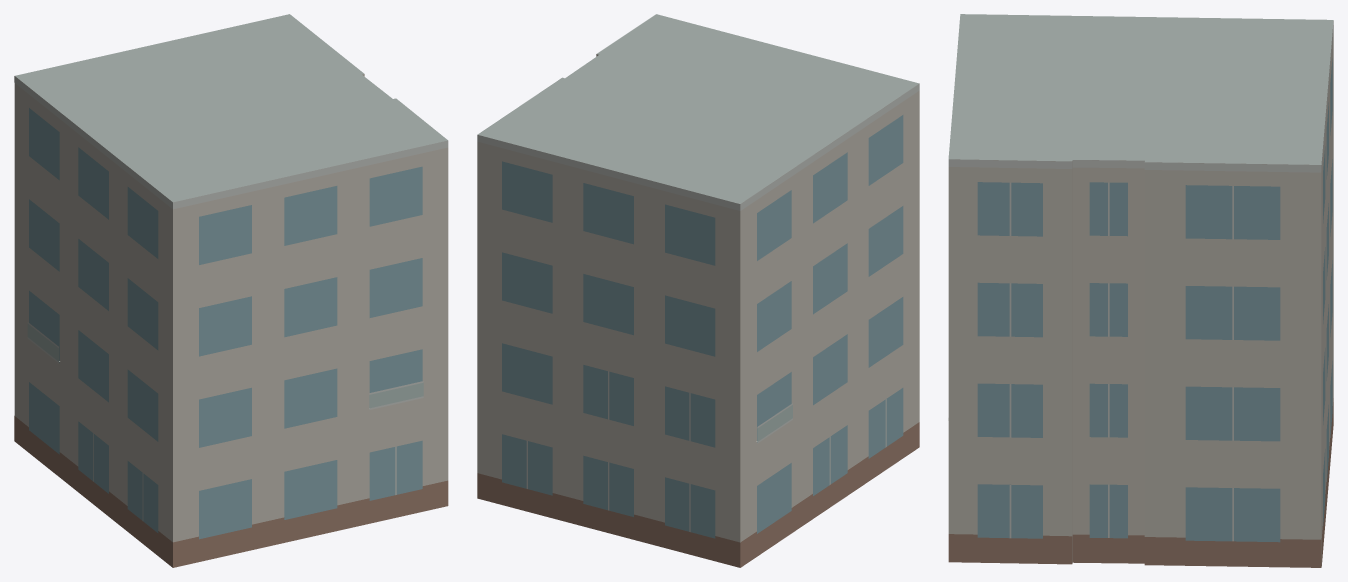
Rendered from survey-upis-32703012.glb.
The picture shows the model from 3 angles, left to right: view 1: azimuth 30°, elevation 25°; view 2: azimuth 150°, elevation 25°; view 3: azimuth 270°, elevation 25°; orthographic projection. The views are drawn at different scales.
Visible parts, largest first — view 1: survey-upis-32703012.tmp; view 2: survey-upis-32703012.tmp; view 3: survey-upis-32703012.tmp.
Boxes of the visible parts, x1,y1,x2,y2 form: survey-upis-32703012.tmp: (14,14,448,567); survey-upis-32703012.tmp: (477,14,919,567); survey-upis-32703012.tmp: (948,14,1333,567).
Bounding box in the file's own units: 10.26 × 12.76 × 11.07.
